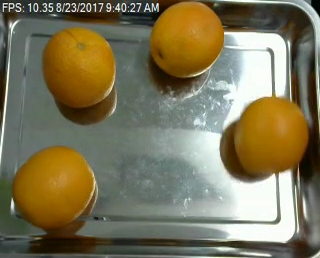Orange: (11, 146, 97, 228), (42, 26, 116, 107), (234, 96, 308, 176), (148, 1, 223, 78)
